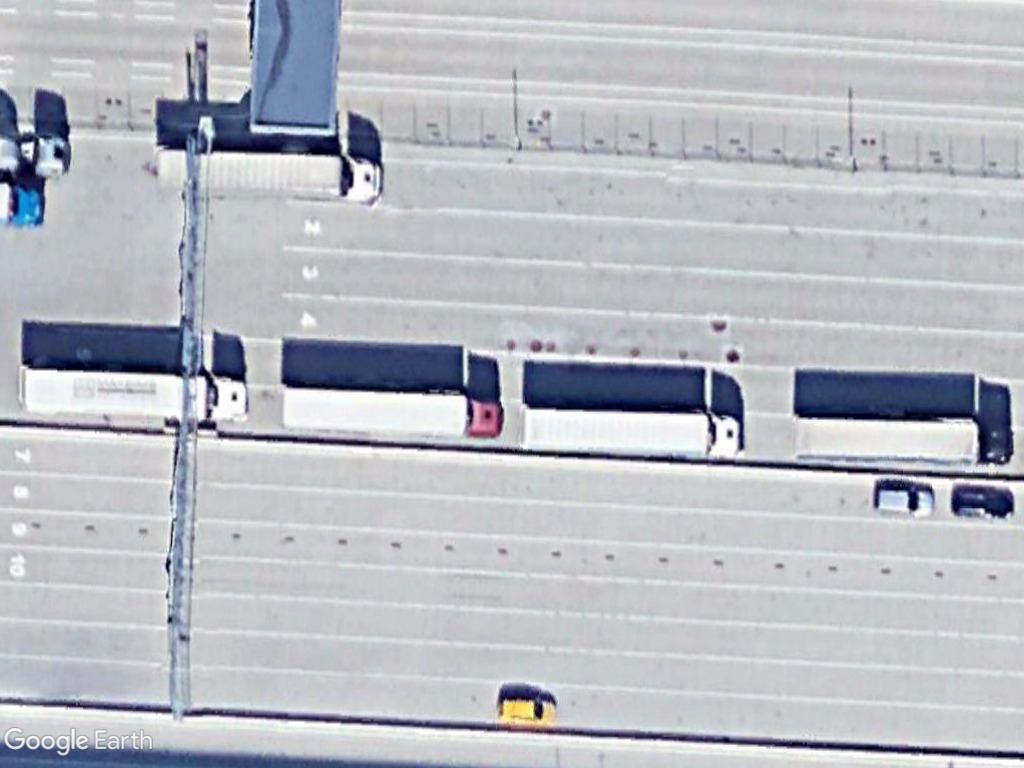car: (493, 686, 562, 730), (946, 484, 1021, 524), (867, 482, 940, 522)
truck: (20, 356, 258, 432), (276, 378, 512, 445), (785, 406, 1018, 471), (516, 401, 752, 465), (205, 147, 391, 214)
